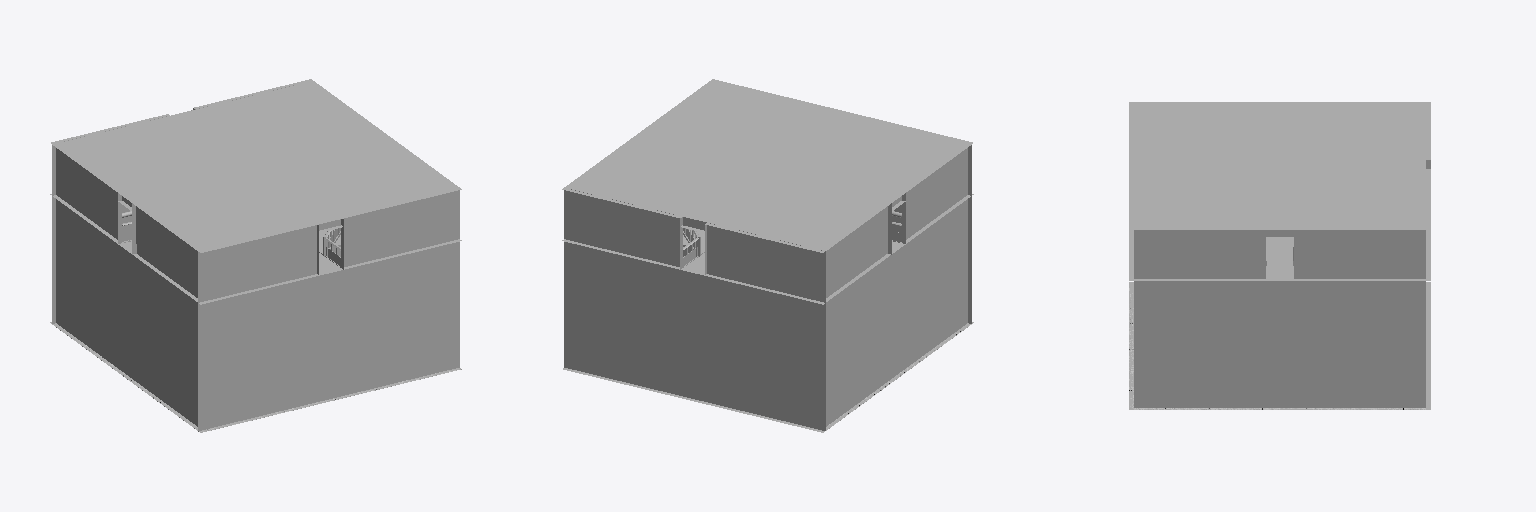
3 renders of one model, left to right at view 1: azimuth 30°, elevation 25°; view 2: azimuth 150°, elevation 25°; view 3: azimuth 270°, elevation 25°, orthographic.
Size of the model in its own units: 2048 by 1346 by 2048.
13 materials, 1 textured.